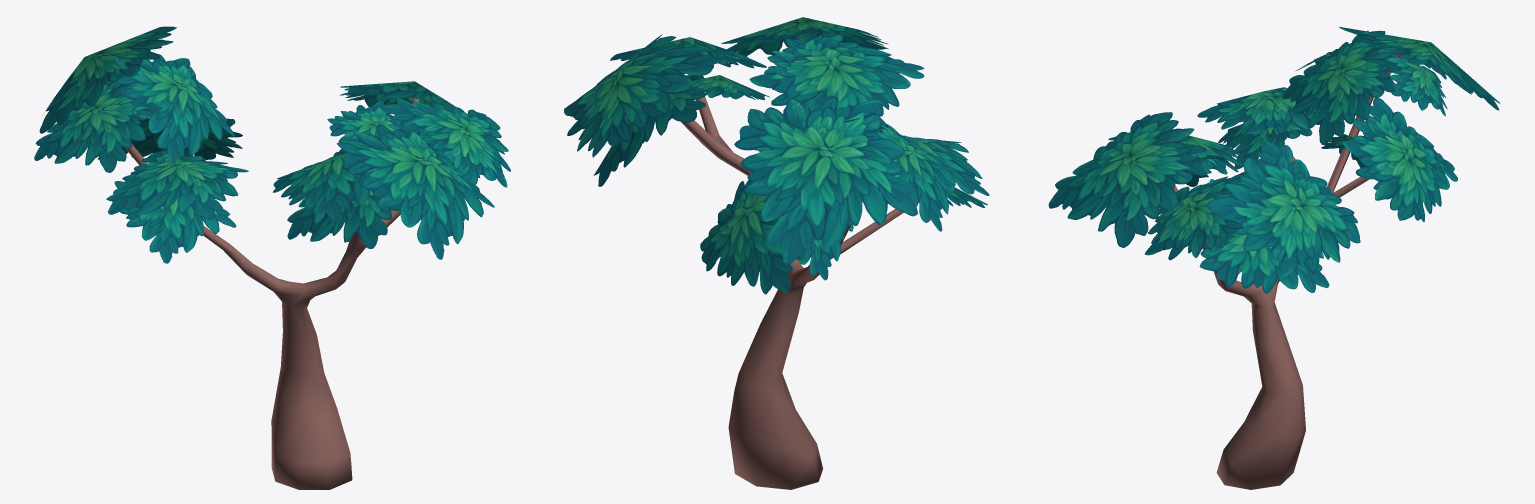
Rendered from tree.obj.
3 views of the same model, side by side, from view 1: azimuth 30°, elevation 25°; view 2: azimuth 150°, elevation 25°; view 3: azimuth 270°, elevation 25° (orthographic). The views are drawn at different scales.
Visible parts, largest first — view 1: Tree_Vert, Leaves.009_Plane.001, Leaves.013_Plane.001, Leaves.014_Plane.001, Leaves.003_Plane.001, Leaves.006_Plane.001, Leaves.004_Plane.001, Leaves.008_Plane.001, Leaves.011_Plane.001, Leaves.007_Plane.001, Leaves.001_Plane.001, Leaves.010_Plane.001 (+1 smaller); view 2: Leaves.004_Plane.001, Tree_Vert, Leaves.001_Plane.001, Leaves.008_Plane.001, Leaves.005_Plane.001, Leaves.003_Plane.001, Leaves.009_Plane.001, Leaves_Plane.001, Leaves.014_Plane.001, Leaves.006_Plane.001, Leaves.010_Plane.001, Leaves.002_Plane.001 (+1 smaller); view 3: Leaves.009_Plane.001, Leaves.001_Plane.001, Tree_Vert, Leaves.005_Plane.001, Leaves.013_Plane.001, Leaves.006_Plane.001, Leaves_Plane.001, Leaves.014_Plane.001, Leaves.004_Plane.001, Leaves.012_Plane.001, Leaves.011_Plane.001, Leaves.008_Plane.001.
Boxes of the visible parts, x1=… form: Tree_Vert: x1=125, y1=97, x2=419, y2=489; Leaves.009_Plane.001: x1=336, y1=122, x2=494, y2=259; Leaves.013_Plane.001: x1=115, y1=54, x2=234, y2=163; Leaves.014_Plane.001: x1=106, y1=150, x2=248, y2=219; Leaves.003_Plane.001: x1=34, y1=81, x2=163, y2=172; Leaves.006_Plane.001: x1=382, y1=98, x2=510, y2=187; Leaves.004_Plane.001: x1=39, y1=26, x2=176, y2=133; Leaves.008_Plane.001: x1=273, y1=153, x2=371, y2=220; Leaves.011_Plane.001: x1=112, y1=180, x2=236, y2=263; Leaves.007_Plane.001: x1=287, y1=139, x2=399, y2=248; Leaves.001_Plane.001: x1=340, y1=81, x2=471, y2=117; Leaves.010_Plane.001: x1=327, y1=101, x2=400, y2=143; Leaves.004_Plane.001: x1=734, y1=96, x2=917, y2=264; Tree_Vert: x1=681, y1=96, x2=918, y2=489; Leaves.001_Plane.001: x1=564, y1=34, x2=727, y2=157; Leaves.008_Plane.001: x1=749, y1=35, x2=924, y2=116; Leaves.005_Plane.001: x1=700, y1=179, x2=803, y2=294; Leaves.003_Plane.001: x1=876, y1=116, x2=958, y2=231; Leaves.009_Plane.001: x1=721, y1=17, x2=888, y2=64; Leaves_Plane.001: x1=593, y1=56, x2=724, y2=186; Leaves.014_Plane.001: x1=908, y1=136, x2=989, y2=195; Leaves.006_Plane.001: x1=610, y1=37, x2=766, y2=68; Leaves.010_Plane.001: x1=685, y1=75, x2=769, y2=100; Leaves.002_Plane.001: x1=798, y1=224, x2=853, y2=280; Leaves.009_Plane.001: x1=1048, y1=112, x2=1209, y2=247; Leaves.001_Plane.001: x1=1206, y1=141, x2=1360, y2=276; Tree_Vert: x1=1174, y1=54, x2=1401, y2=489; Leaves.005_Plane.001: x1=1343, y1=98, x2=1457, y2=221; Leaves.013_Plane.001: x1=1282, y1=30, x2=1401, y2=144; Leaves.006_Plane.001: x1=1144, y1=173, x2=1248, y2=260; Leaves_Plane.001: x1=1199, y1=179, x2=1329, y2=293; Leaves.014_Plane.001: x1=1197, y1=87, x2=1316, y2=134; Leaves.004_Plane.001: x1=1339, y1=26, x2=1499, y2=110; Leaves.012_Plane.001: x1=1381, y1=46, x2=1447, y2=116; Leaves.011_Plane.001: x1=1218, y1=119, x2=1320, y2=169; Leaves.008_Plane.001: x1=1108, y1=132, x2=1243, y2=174.
Size of the model in its own units: 9.77 by 9.1 by 10.3.
